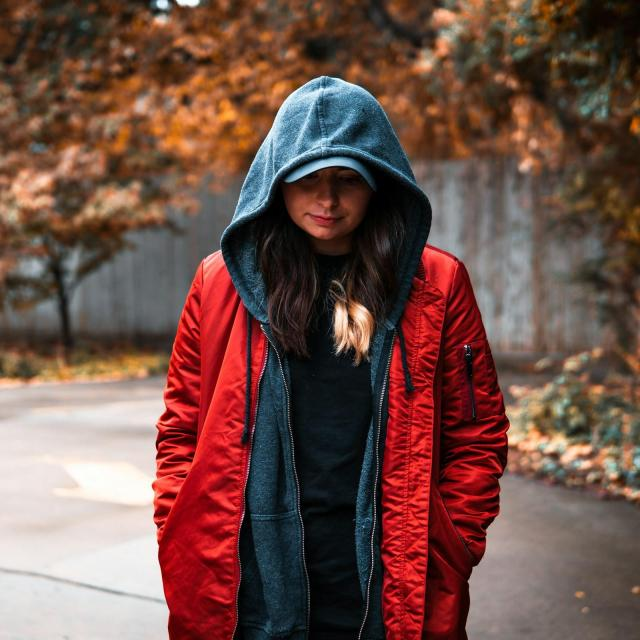4_capucha: (217, 75, 435, 328)
